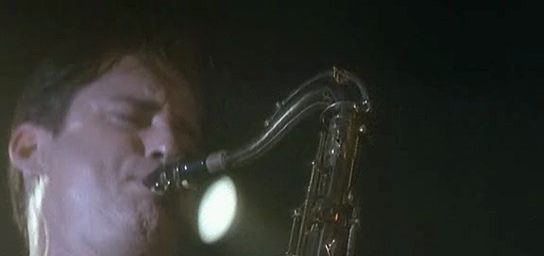cu: (1, 1, 544, 256)
face: (76, 58, 200, 245)
person: (1, 1, 200, 256)
